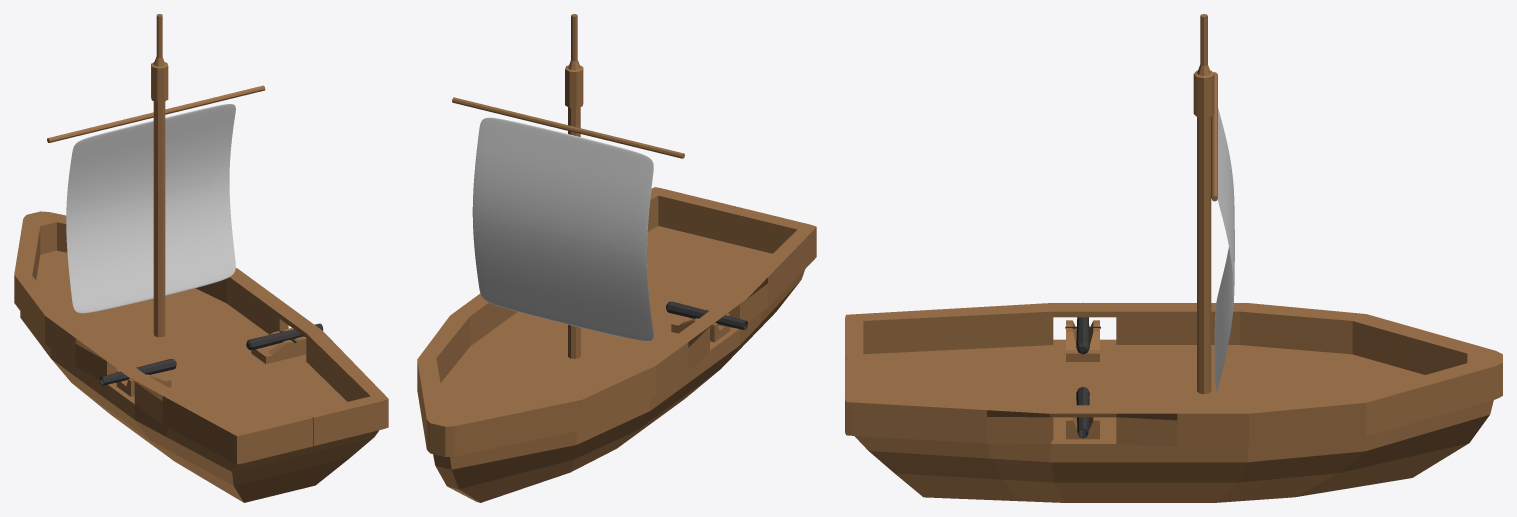
File: pirateship.fbx
3 views of the same model, side by side, from view 1: azimuth 30°, elevation 25°; view 2: azimuth 150°, elevation 25°; view 3: azimuth 270°, elevation 25° (orthographic). The views are drawn at different scales.
Visible parts, largest first — view 1: Boat, Plane, Cylinder, Canon, Cylinder.001, Canon.001; view 2: Boat, Plane, Cylinder, Cylinder.001, Canon.001; view 3: Boat, Cylinder, Plane, Canon.001, Canon, Cylinder.001.
Boxes of the visible parts, bbox=[...] form: Boat: bbox=[14, 211, 388, 502]; Plane: bbox=[66, 104, 235, 313]; Cylinder: bbox=[151, 14, 168, 337]; Canon: bbox=[246, 323, 323, 363]; Cylinder.001: bbox=[47, 85, 265, 142]; Canon.001: bbox=[99, 359, 176, 396]; Boat: bbox=[417, 187, 816, 502]; Plane: bbox=[472, 117, 653, 341]; Cylinder: bbox=[565, 14, 583, 358]; Cylinder.001: bbox=[452, 97, 684, 158]; Canon.001: bbox=[666, 301, 747, 342]; Boat: bbox=[845, 303, 1502, 502]; Cylinder: bbox=[1193, 14, 1214, 394]; Plane: bbox=[1214, 108, 1234, 392]; Canon.001: bbox=[1065, 317, 1100, 361]; Canon: bbox=[1066, 387, 1099, 439]; Cylinder.001: bbox=[1211, 72, 1217, 201].
Bounding box in the file's own units: 257 × 438 × 567.
